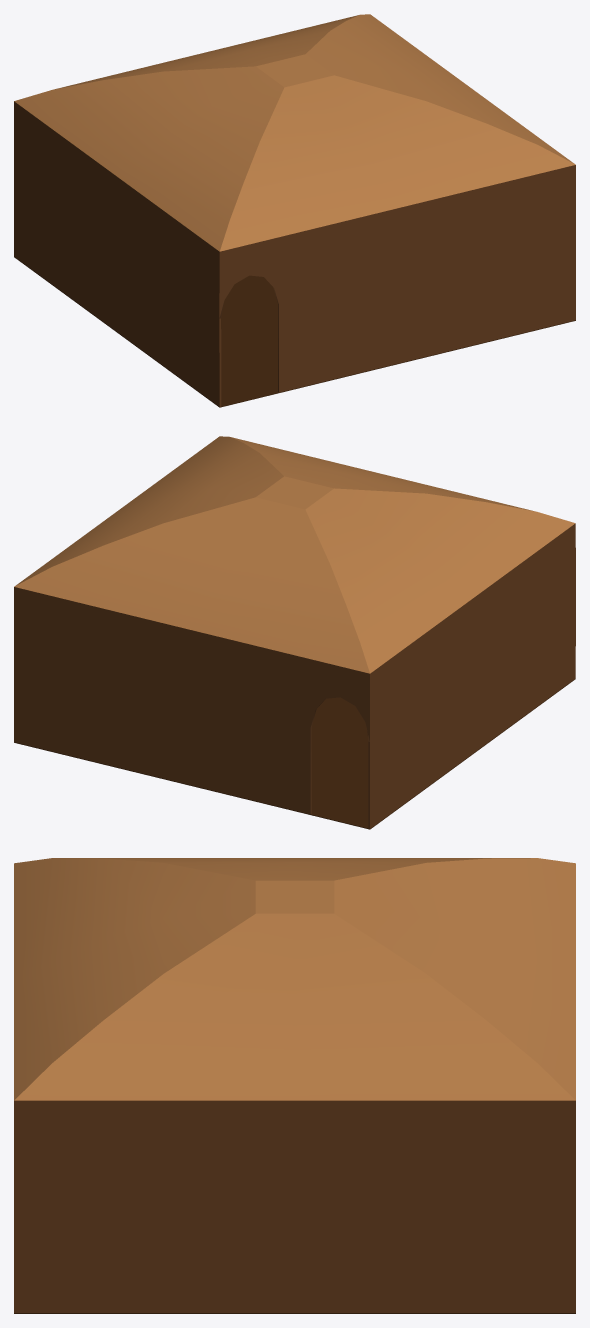
File: casa.fbx
3 views of the same model, one above another, from view 1: azimuth 30°, elevation 25°; view 2: azimuth 150°, elevation 25°; view 3: azimuth 270°, elevation 25° (orthographic). The views are drawn at different scales.
Visible parts, largest first — view 1: Plane.001; view 2: Plane.001; view 3: Plane.001.
Part boxes in pixels (x1,y1,x2,y2): Plane.001: (14,14,575,407); Plane.001: (14,436,575,829); Plane.001: (14,858,575,1313).
Bounding box in the file's own units: 601 × 351 × 600.
